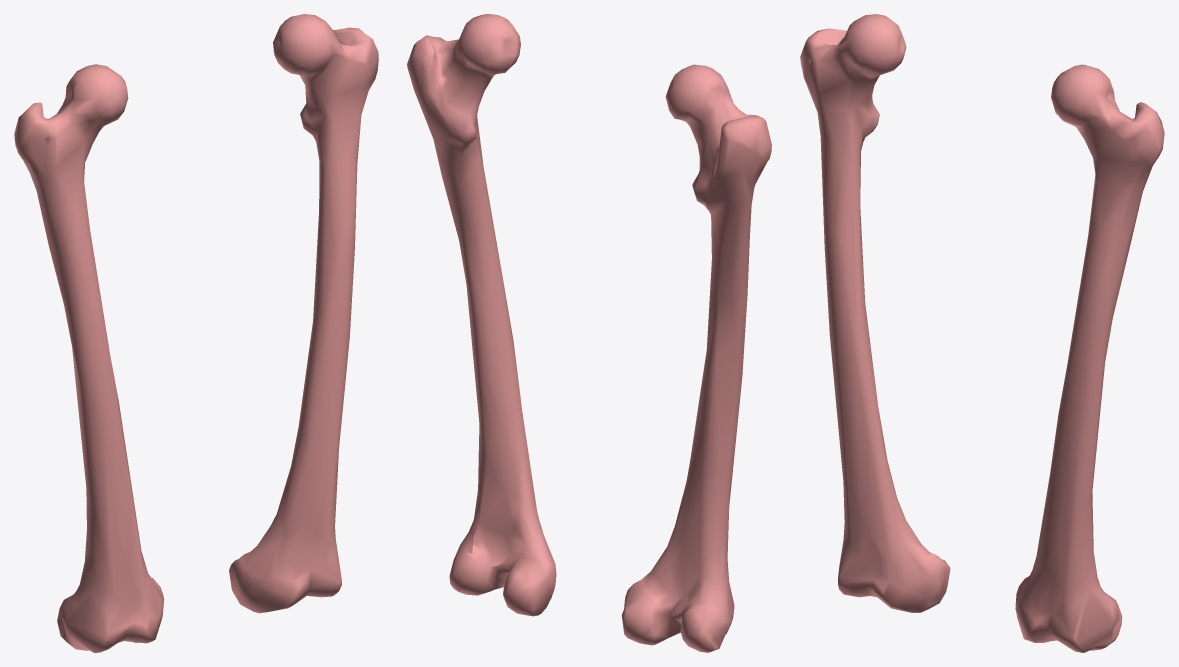
Rendered from femur_sample.glb.
The picture shows the model from 3 angles, left to right: view 1: azimuth 30°, elevation 25°; view 2: azimuth 150°, elevation 25°; view 3: azimuth 330°, elevation 25°; orthographic projection.
Visible parts, largest first — view 1: femur; view 2: femur; view 3: femur.
Boxes of the visible parts, x1=… form: femur: x1=14, y1=14, x2=378, y2=652; femur: x1=407, y1=14, x2=771, y2=652; femur: x1=800, y1=14, x2=1164, y2=652.
Size of the model in its own units: 0.3002 by 0.4658 by 0.0628.
